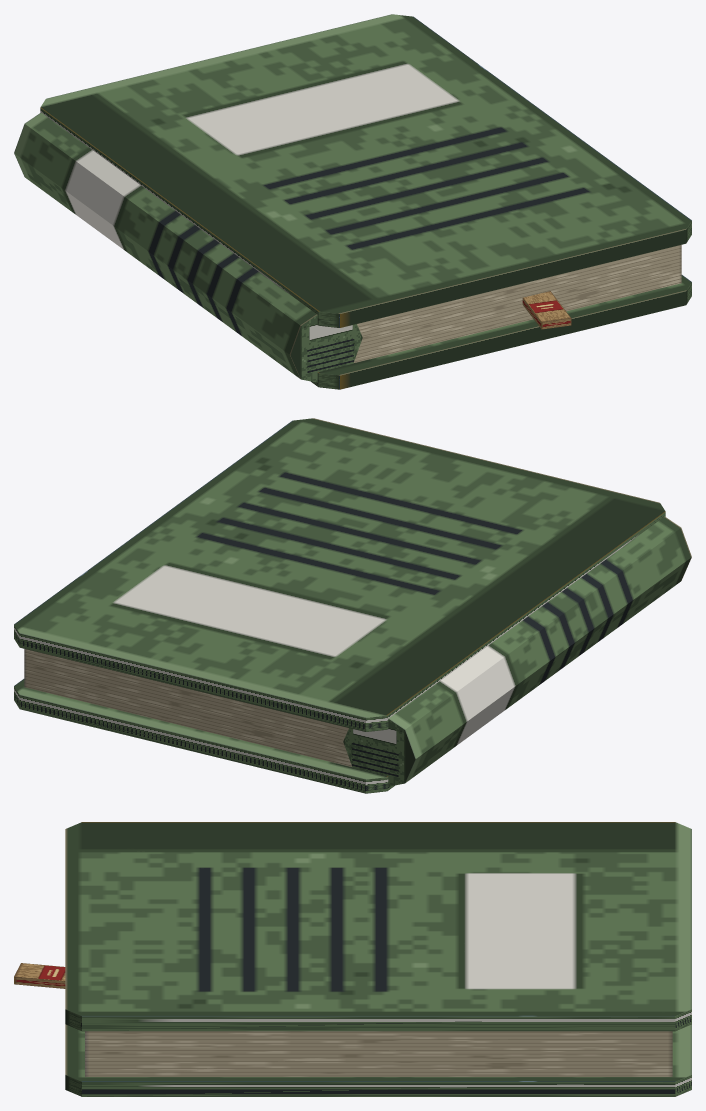
File: Item_Doc_Diary1.fbx
3 renders of one model, top to bottom at view 1: azimuth 30°, elevation 25°; view 2: azimuth 150°, elevation 25°; view 3: azimuth 270°, elevation 25°, orthographic. The views are drawn at different scales.
Parts seen in each view (by area): view 1: Item_Doc_Diary1; view 2: Item_Doc_Diary1; view 3: Item_Doc_Diary1.
Part boxes in pixels (x1,y1,x2,y2): Item_Doc_Diary1: (14,14,691,389); Item_Doc_Diary1: (14,418,691,793); Item_Doc_Diary1: (14,822,691,1096).
Size of the model in its own units: 17.7 by 3.2 by 24.35.
